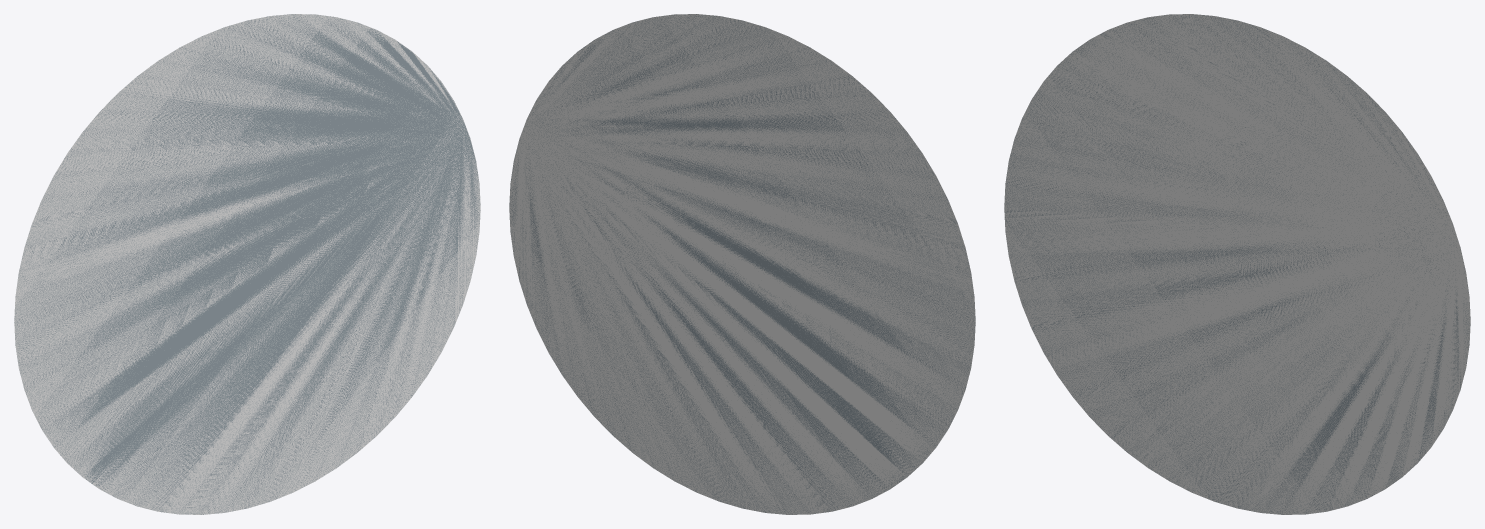
The model's file is Round_64.obj.
The picture shows the model from 3 angles, left to right: view 1: azimuth 30°, elevation 25°; view 2: azimuth 150°, elevation 25°; view 3: azimuth 330°, elevation 25°; orthographic projection.
Parts seen in each view (by area): view 1: Mesh1 Model; view 2: Mesh1 Model; view 3: Mesh1 Model.
Boxes of the visible parts, left/top/right/bottom form: Mesh1 Model: left=14, top=14, right=480, bottom=514; Mesh1 Model: left=509, top=14, right=975, bottom=514; Mesh1 Model: left=1004, top=14, right=1470, bottom=514.
Size of the model in its own units: 4.48 by 4.48 by 0.
